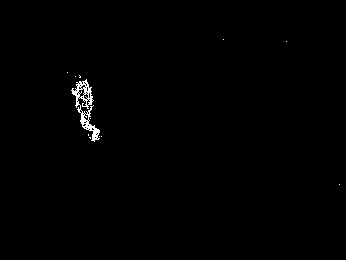person: (71, 78, 100, 142)
